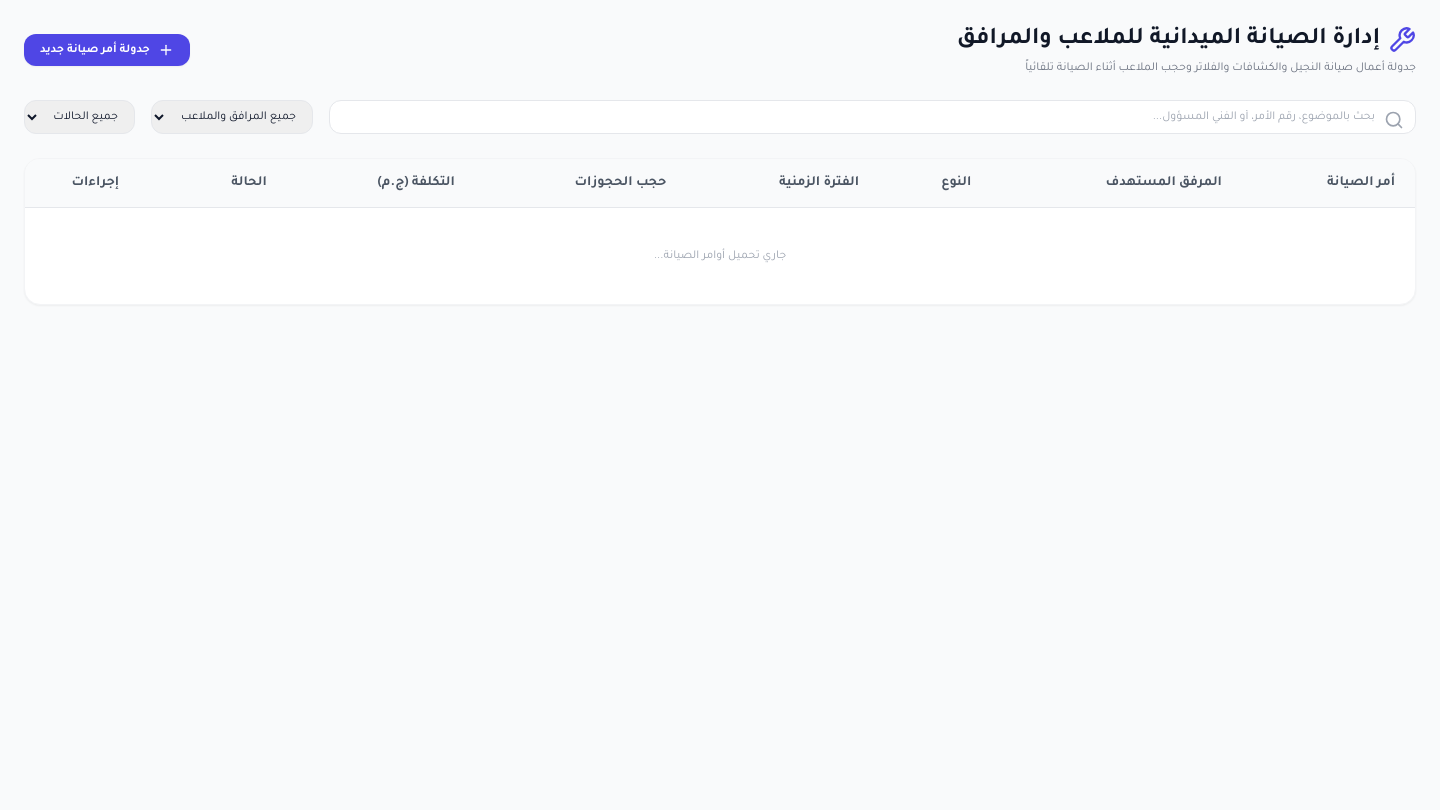
Test: 🏟️ FacilityMaintenanceManager UI & Operational Tests › يفتح نافذة "جدولة أمر صيانة جديد" عند الضغط على الزر المخصص
Click the button "جدولة أمر صيانة جديد" at (107, 50), box [24, 34, 190, 66]
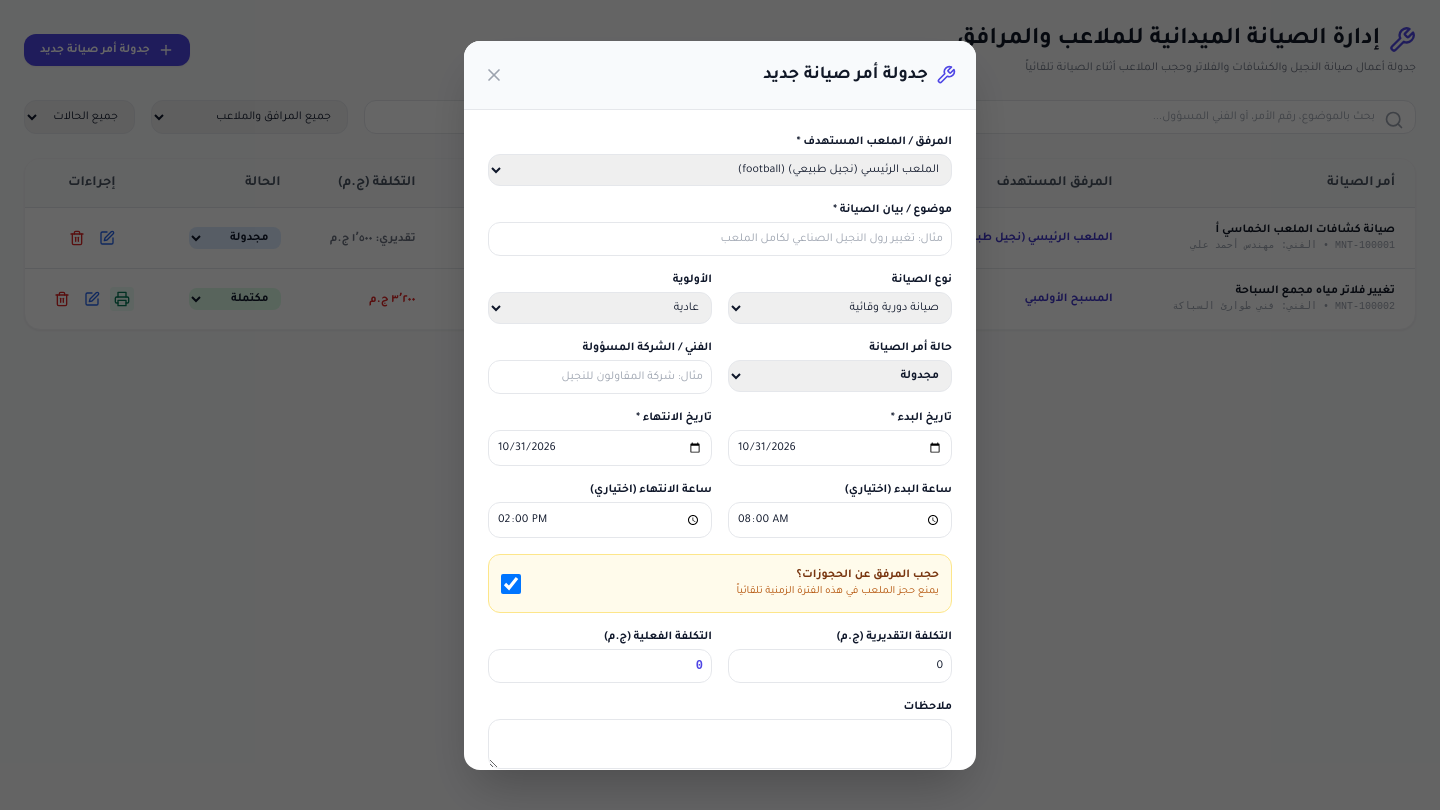
Expected: the field with placeholder "مثال: تغيير رول النجيل الصناعي لكامل الملعب" is shown, [488, 222, 952, 256]
Expected: the text "المرفق / الملعب المستهدف *" is shown, [797, 136, 952, 148]
